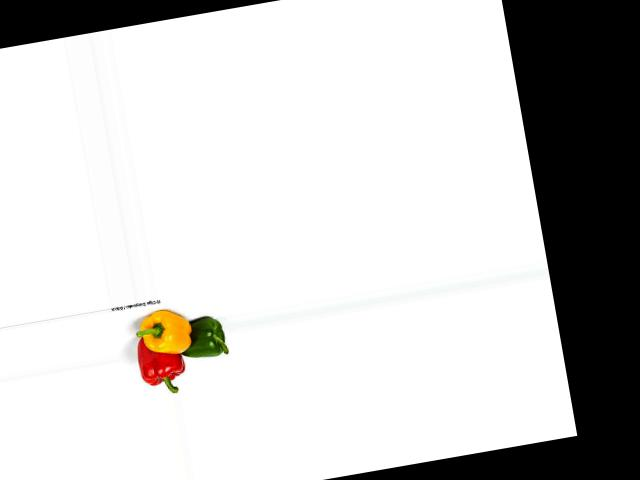bell_pepper: (130, 334, 189, 398)
